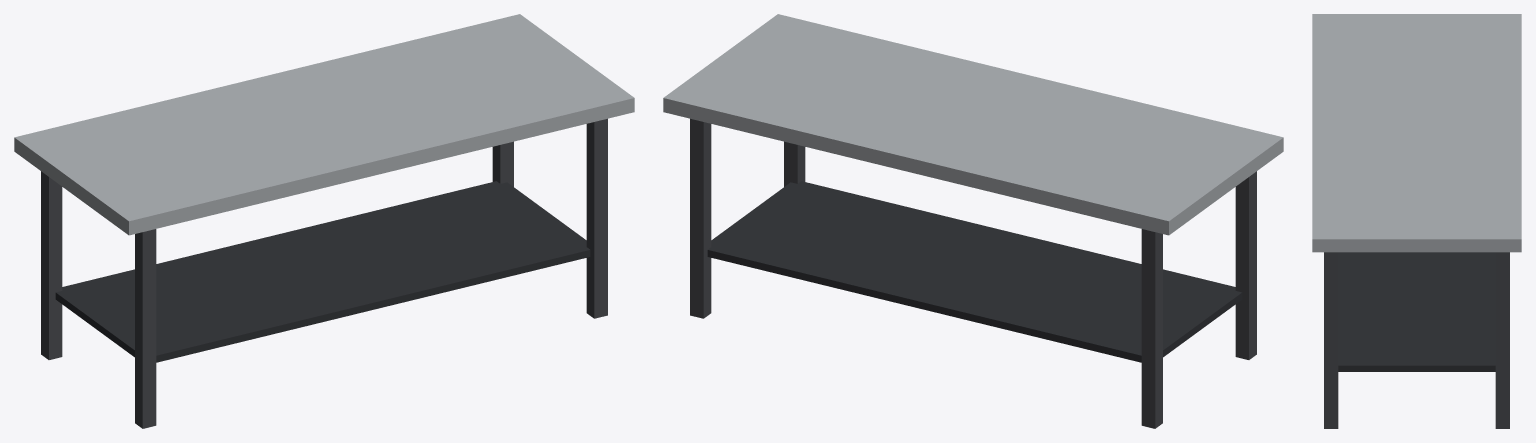
Rendered from SM_Prop_Table_Metal_01.glb.
The picture shows the model from 3 angles, left to right: view 1: azimuth 30°, elevation 25°; view 2: azimuth 150°, elevation 25°; view 3: azimuth 270°, elevation 25°; orthographic projection. The views are drawn at different scales.
Parts seen in each view (by area): view 1: SM_Prop_Table_Metal_01; view 2: SM_Prop_Table_Metal_01; view 3: SM_Prop_Table_Metal_01.
Part boxes in pixels (left/top/right/bottom): SM_Prop_Table_Metal_01: left=14, top=14, right=634, bottom=428; SM_Prop_Table_Metal_01: left=663, top=14, right=1283, bottom=428; SM_Prop_Table_Metal_01: left=1312, top=14, right=1521, bottom=428.
Size of the model in its own units: 2.24 by 0.92 by 0.88.
1 material, 1 textured.
